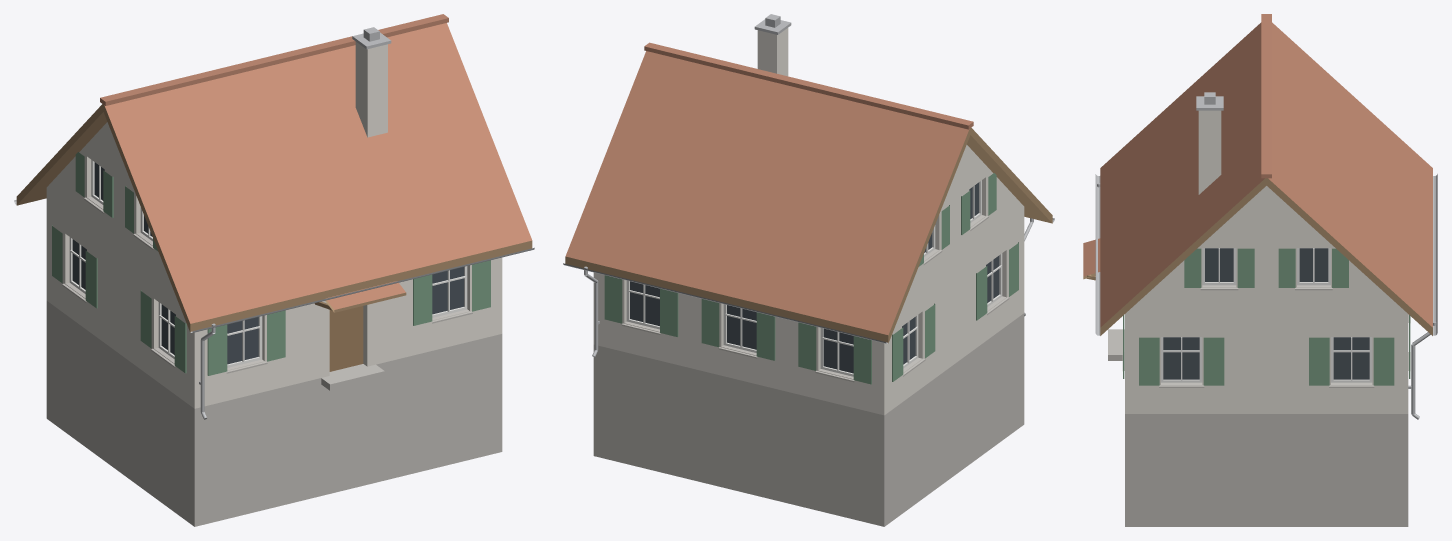
The model's file is house_gable_1_s.glb.
The picture shows the model from 3 angles, left to right: view 1: azimuth 30°, elevation 25°; view 2: azimuth 150°, elevation 25°; view 3: azimuth 270°, elevation 25°; orthographic projection. The views are drawn at different scales.
Visible parts, largest first — view 1: house_gable_1_s; view 2: house_gable_1_s; view 3: house_gable_1_s.
Boxes of the visible parts, x1=… form: house_gable_1_s: x1=14, y1=14, x2=534, y2=526; house_gable_1_s: x1=563, y1=14, x2=1054, y2=526; house_gable_1_s: x1=1083, y1=14, x2=1437, y2=526.
Size of the model in its own units: 10.04 by 11.45 by 9.38.
